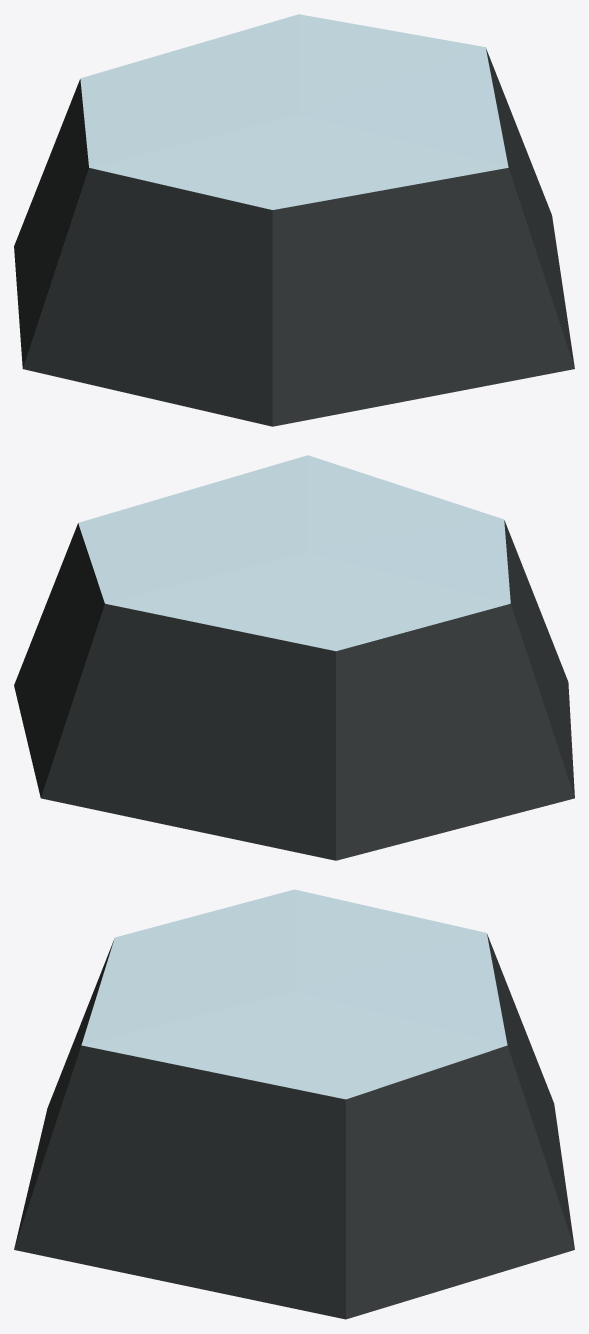
Rendered from SM_Env_Generic_Rock_06_Snow.fbx.
3 views of the same model, one above another, from view 1: azimuth 30°, elevation 25°; view 2: azimuth 150°, elevation 25°; view 3: azimuth 270°, elevation 25° (orthographic). The views are drawn at different scales.
Parts seen in each view (by area): view 1: SM_Env_Generic_Rock_06_Snow; view 2: SM_Env_Generic_Rock_06_Snow; view 3: SM_Env_Generic_Rock_06_Snow.
Boxes of the visible parts, bbox=[...] form: SM_Env_Generic_Rock_06_Snow: bbox=[14, 14, 574, 426]; SM_Env_Generic_Rock_06_Snow: bbox=[14, 455, 574, 860]; SM_Env_Generic_Rock_06_Snow: bbox=[14, 889, 574, 1319].
Size of the model in its own units: 32.56 by 14.23 by 28.08.
Materials: 1 (1 with a texture image).
